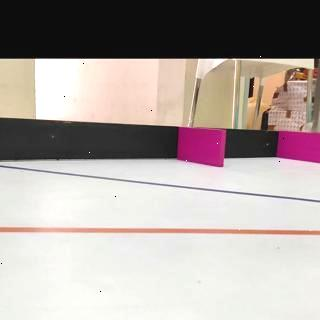xparking: (180, 128, 224, 162), (282, 132, 320, 158)
